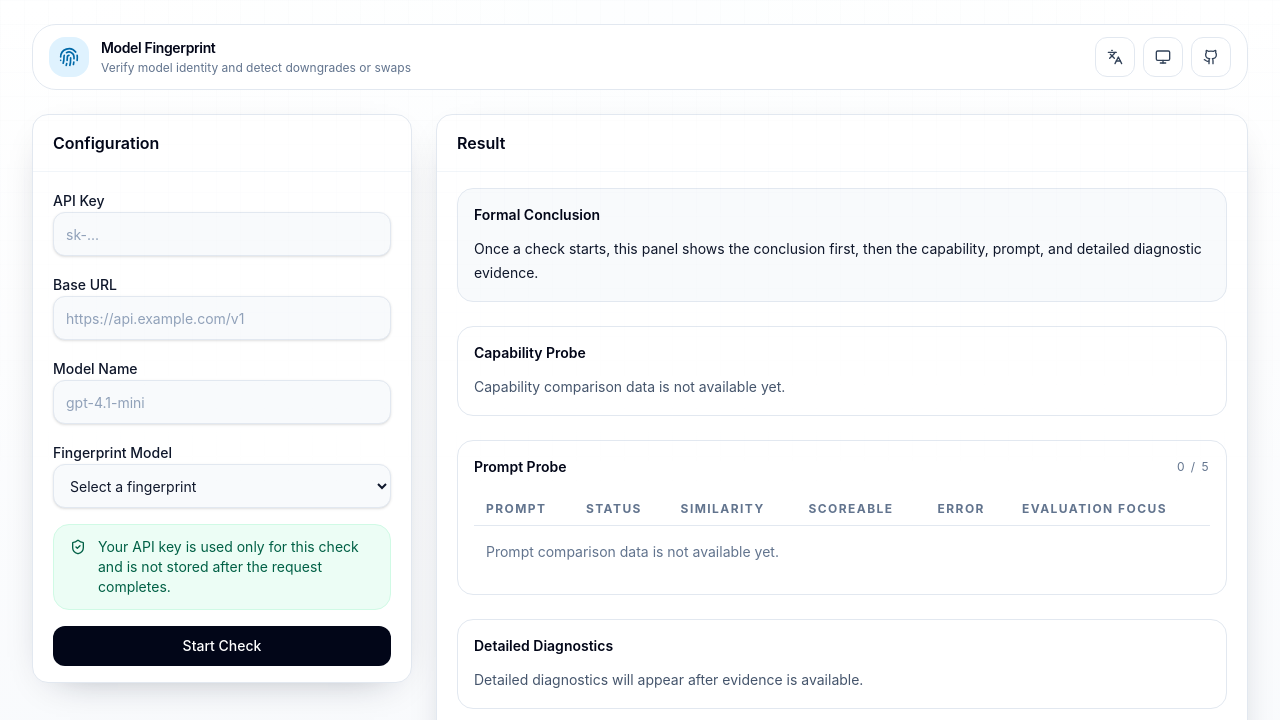
Scenario: switches all visible shell copy to simplified chinese
Click the button named "Change language" at (1115, 57), box [1095,37,1135,77]
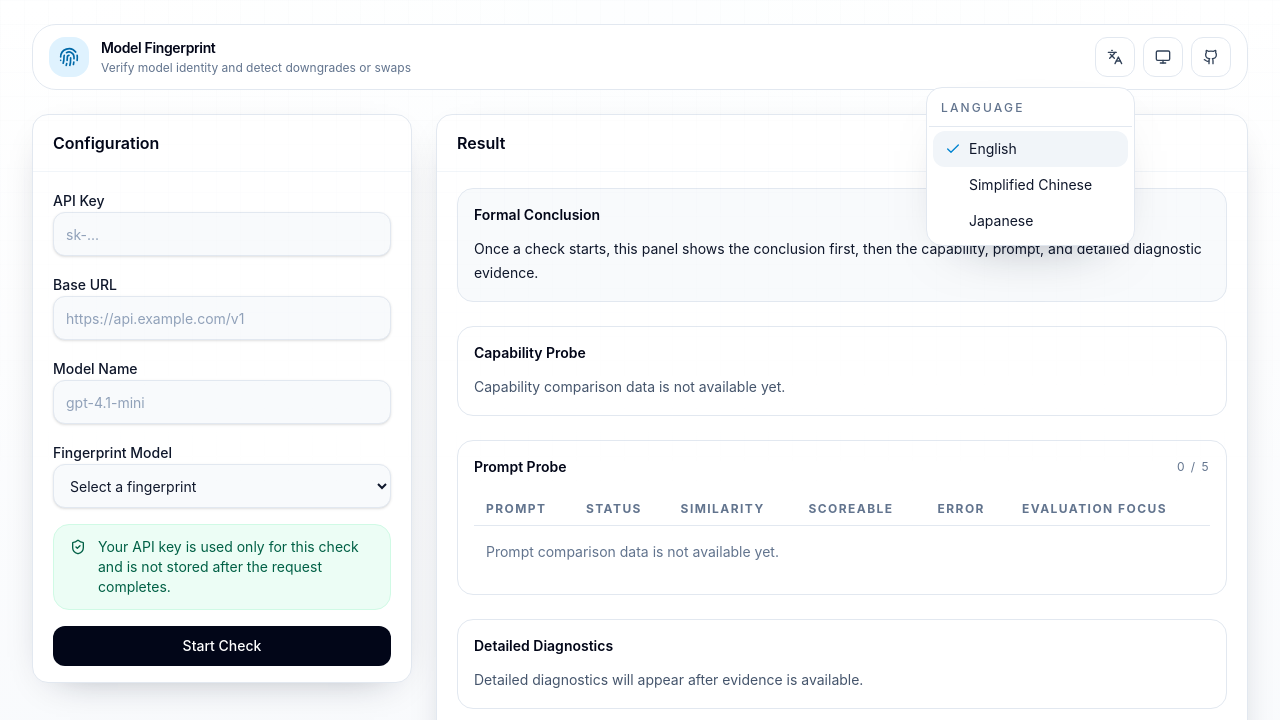
Click the menu item "Simplified Chinese" at (1031, 184), box [969,176,1092,193]
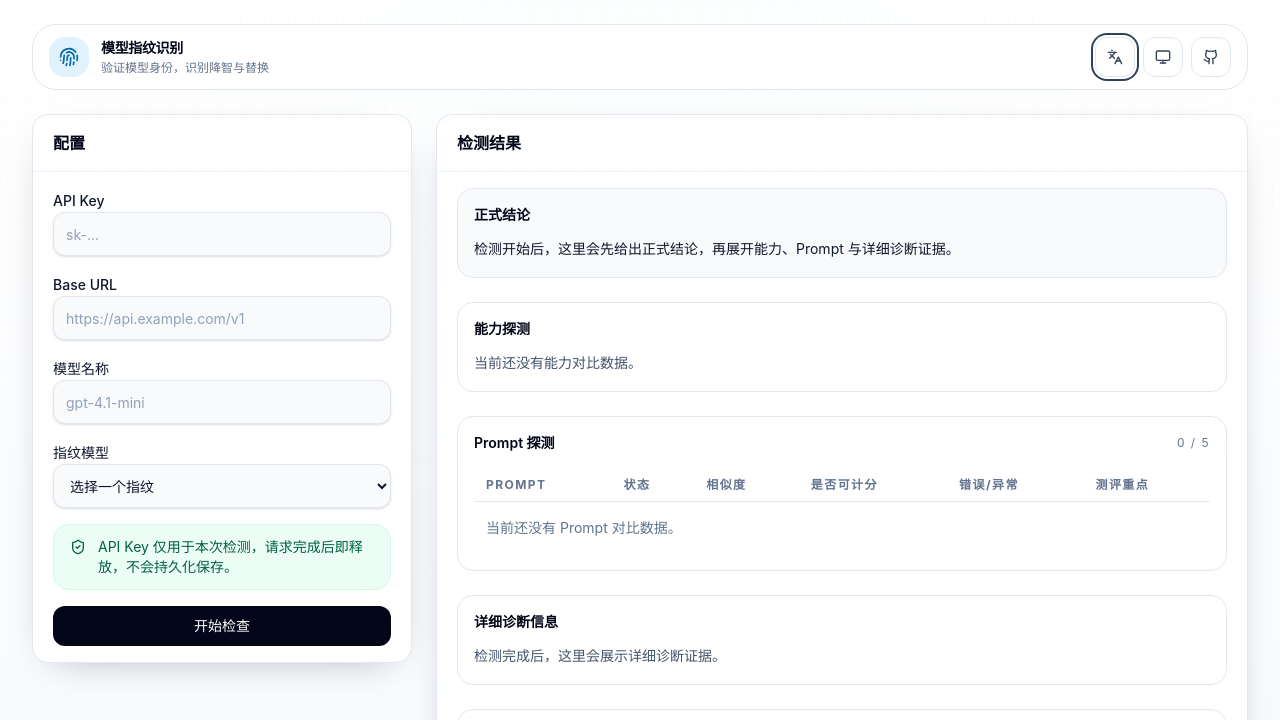
Result: the heading "配置" is shown at [53,133,85,153]
Result: the heading "检测结果" is shown at [457,133,521,153]
Result: the heading "正式结论" is shown at [474,206,530,223]
